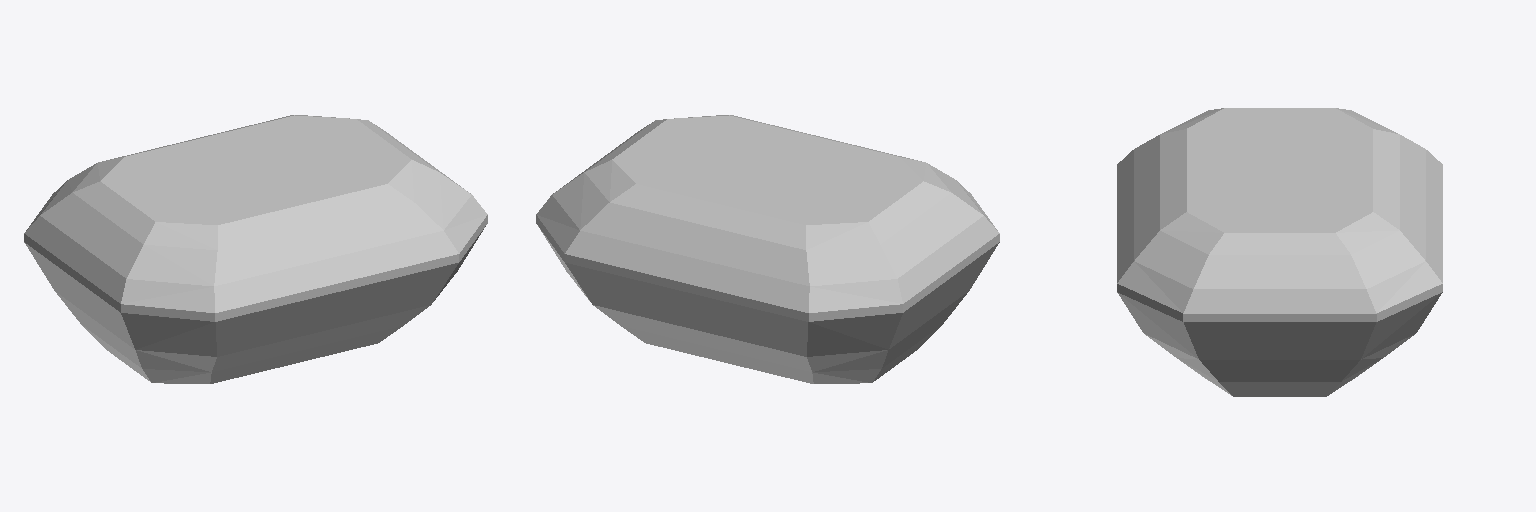
File: emerald3.obj
3 renders of one model, left to right at view 1: azimuth 30°, elevation 25°; view 2: azimuth 150°, elevation 25°; view 3: azimuth 270°, elevation 25°, orthographic.
Visible parts, largest first — view 1: emerald:pCube1; view 2: emerald:pCube1; view 3: emerald:pCube1.
Part boxes in pixels (left/top/right/bottom): emerald:pCube1: left=24, top=115, right=487, bottom=383; emerald:pCube1: left=536, top=115, right=999, bottom=383; emerald:pCube1: left=1117, top=108, right=1442, bottom=396.
Size of the model in its own units: 2.44 by 1.09 by 1.87.